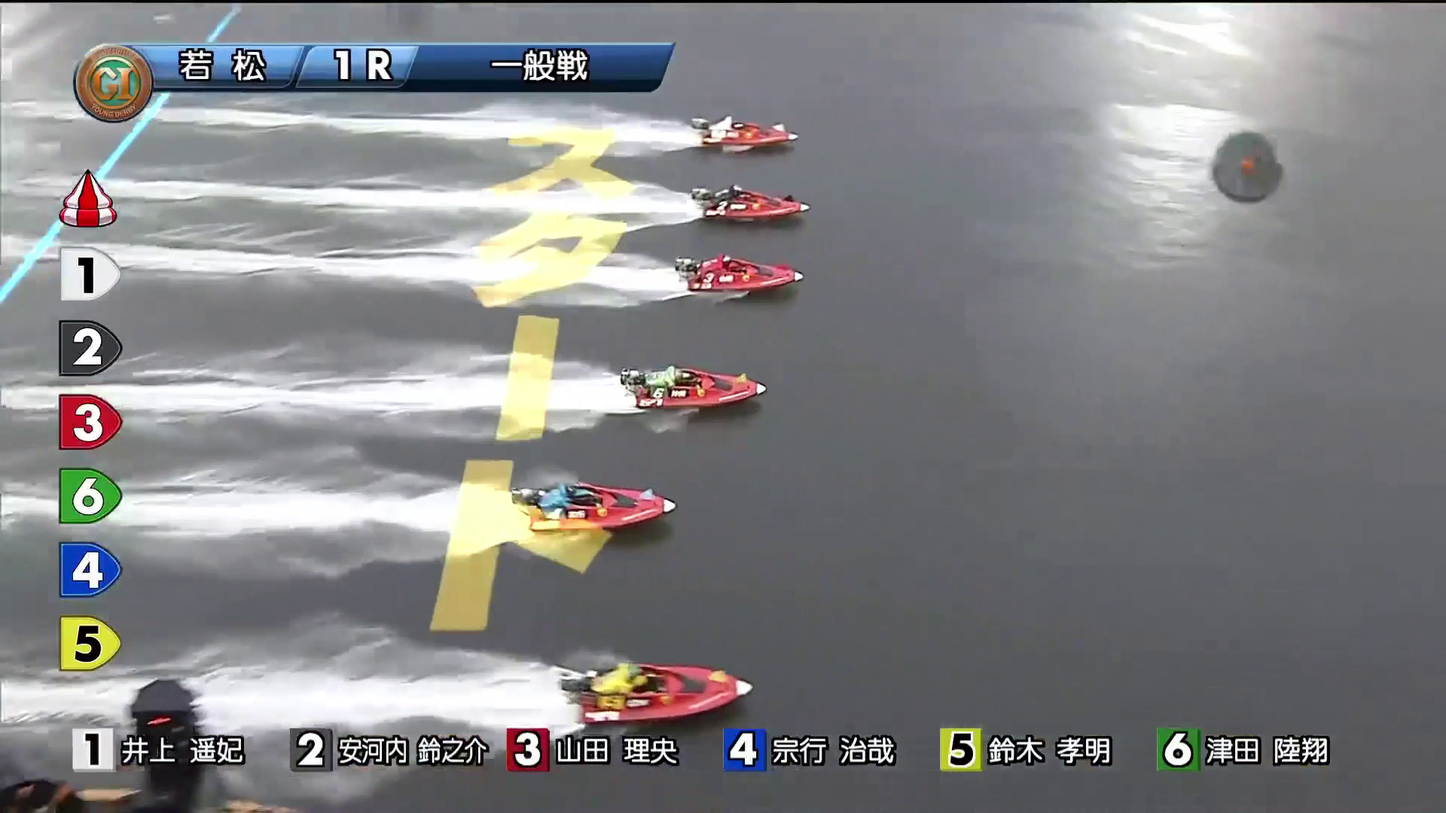１号艇: (730, 110, 789, 156)
２号艇: (696, 187, 799, 225)
３号艇: (681, 255, 806, 297)
４号艇: (661, 360, 766, 403)
５号艇: (538, 478, 659, 533)
６号艇: (573, 659, 731, 715)
